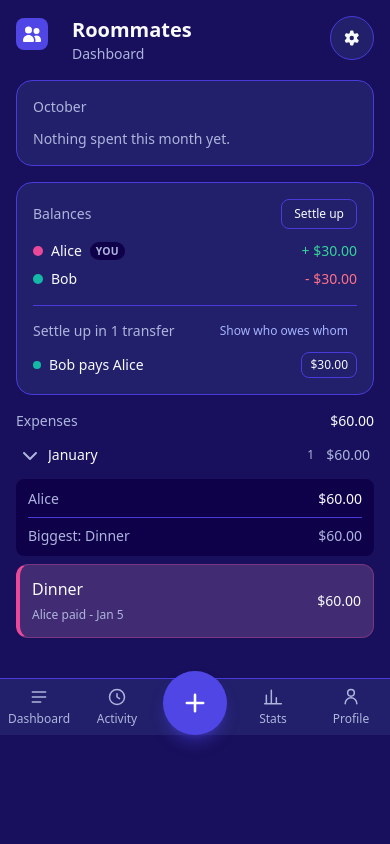
it: the group screen › switches to the raw who-owes-whom view
Click the button "Show who owes whom" at (284, 331), box [211,318,357,344]
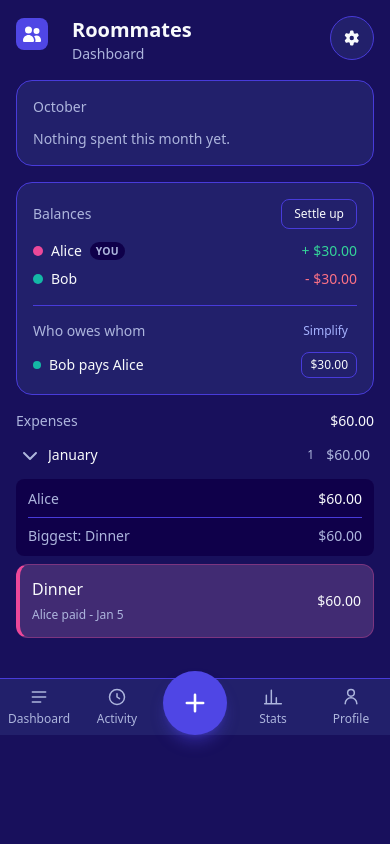
Expected: the text "Who owes whom" is shown, [33,321,145,341]
Now the text "Simplify" is shown, box [294,318,357,344]
